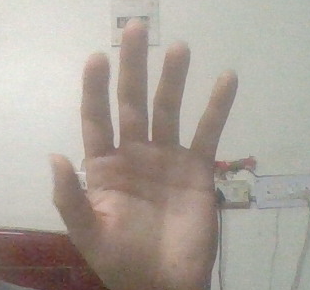move: (44, 12, 238, 283)
